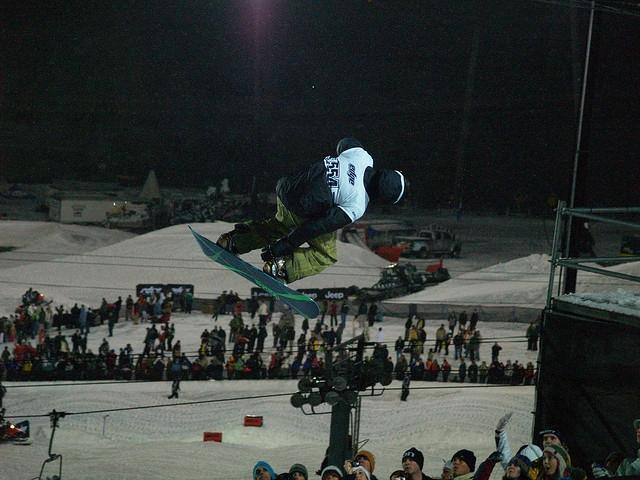truck: (60, 195, 150, 226), (372, 262, 436, 300), (390, 228, 462, 260)
